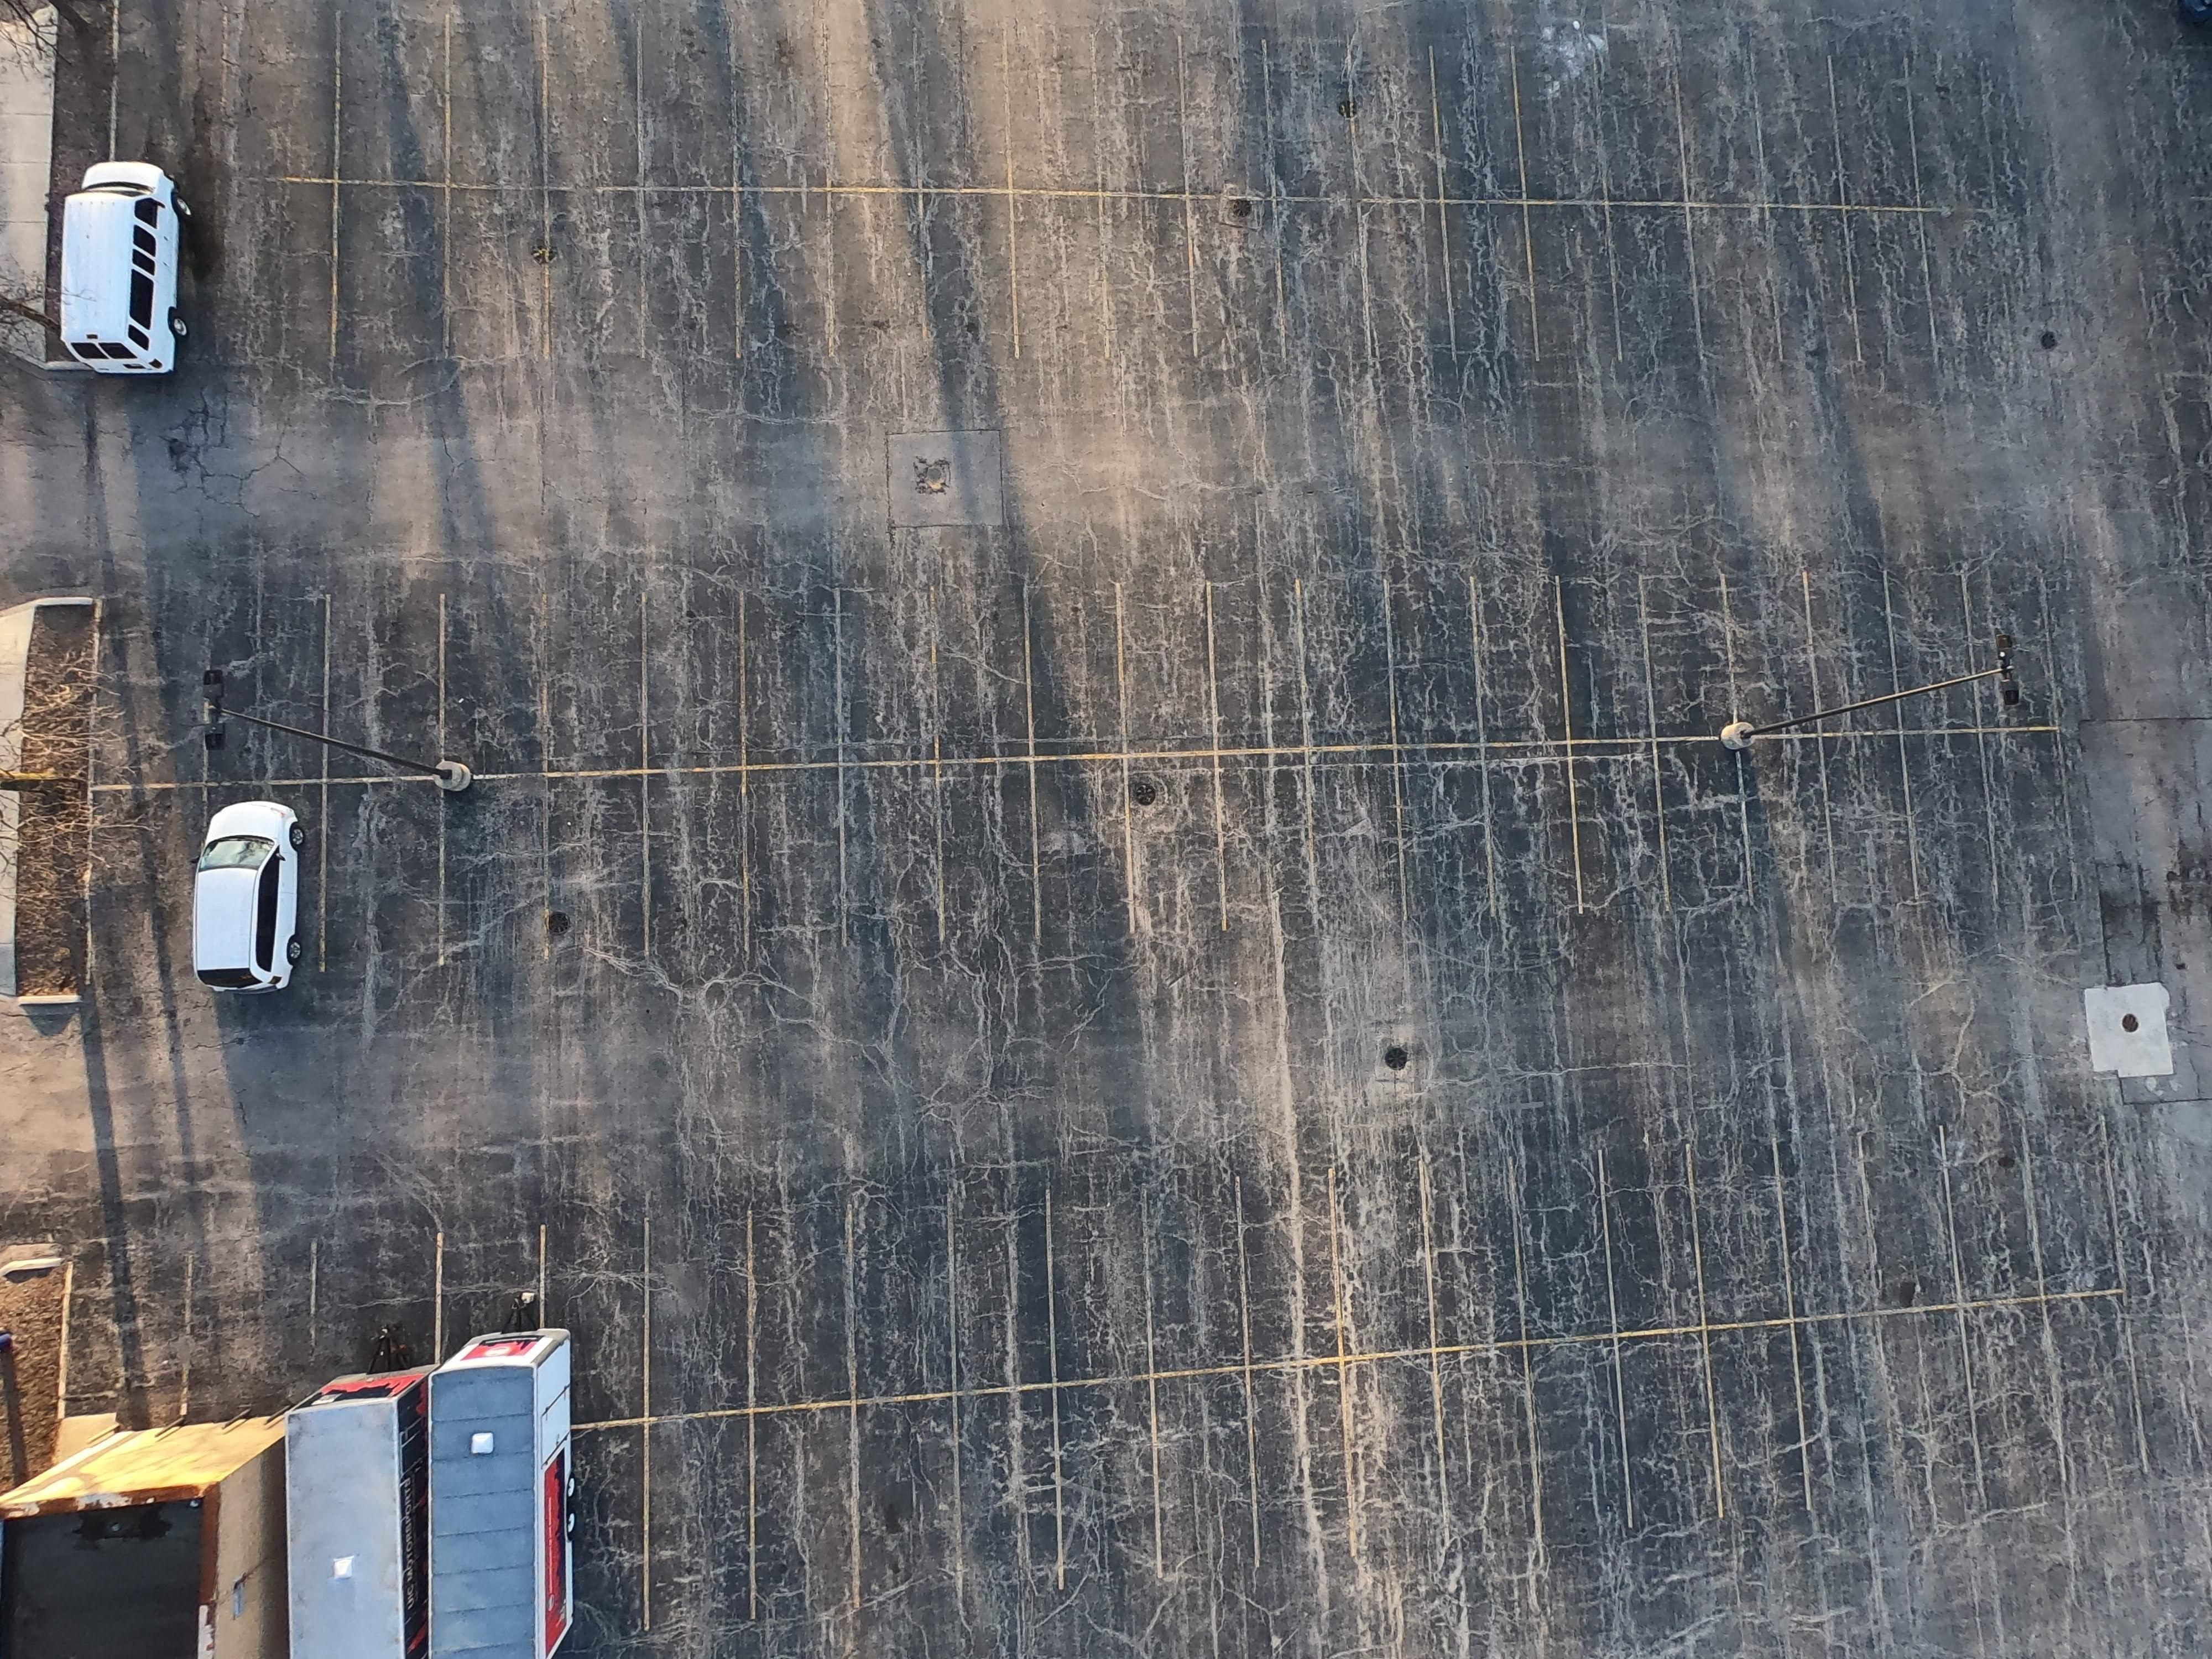Car: (51, 155, 200, 385), (179, 795, 310, 1004)
